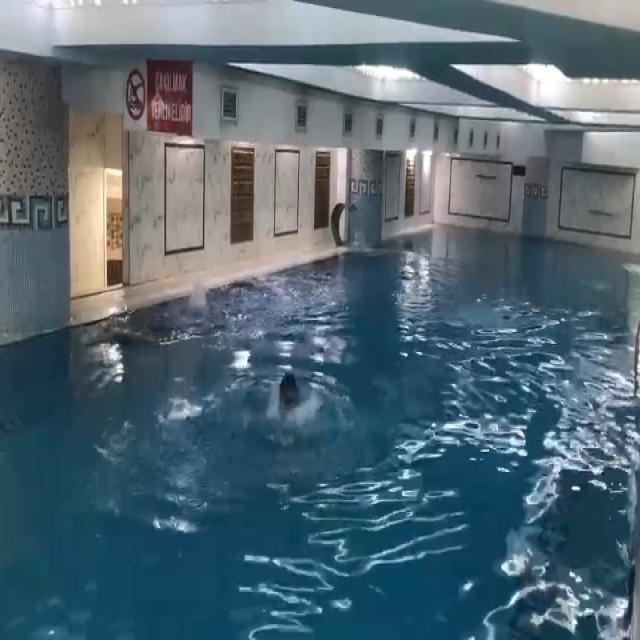Drowning: (256, 360, 326, 439)
